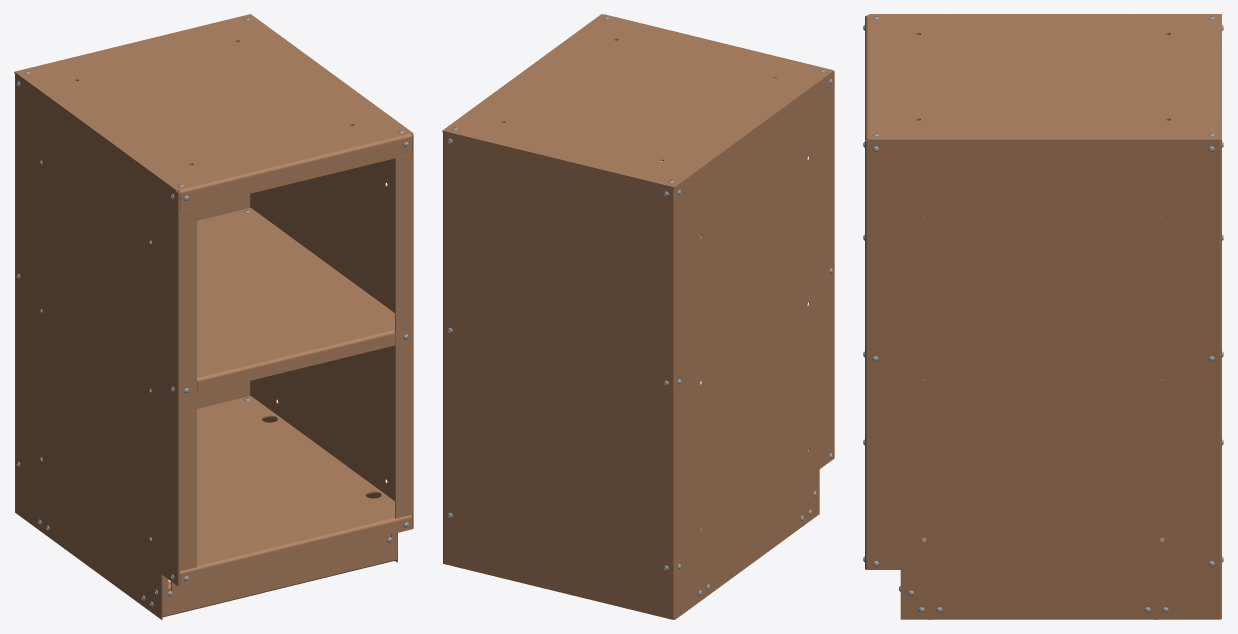
Rendered from bank500.glb.
The picture shows the model from 3 angles, left to right: view 1: azimuth 30°, elevation 25°; view 2: azimuth 150°, elevation 25°; view 3: azimuth 270°, elevation 25°; orthographic projection. The views are drawn at different scales.
Parts seen in each view (by area): view 1: corten; view 2: corten; view 3: corten, stal.
Part boxes in pixels (bbox=[...]): corten: bbox=[14, 14, 413, 619]; corten: bbox=[442, 14, 834, 619]; corten: bbox=[865, 14, 1221, 619]; stal: bbox=[863, 16, 1223, 612].
Bounding box in the file's own units: 0.5059 × 0.895 × 0.6059.
